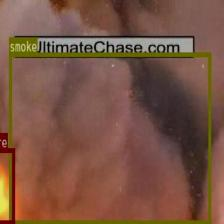fire: (0, 147, 14, 224)
smoke: (8, 52, 210, 224)
